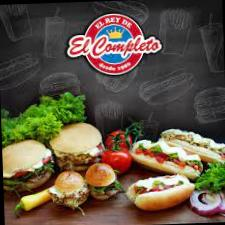Completos: (129, 134, 207, 178), (126, 170, 194, 210)
